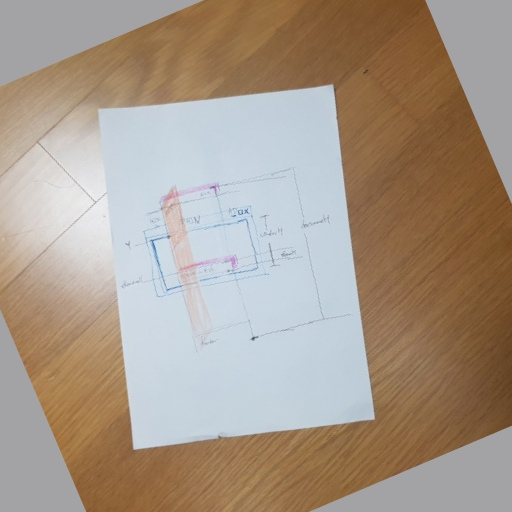Paper_2: (92, 83, 382, 447)
